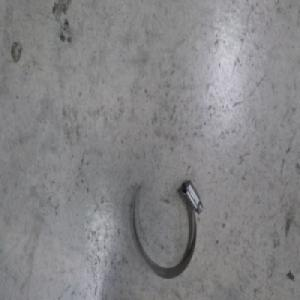AdjustableClamp: (129, 179, 203, 282)
